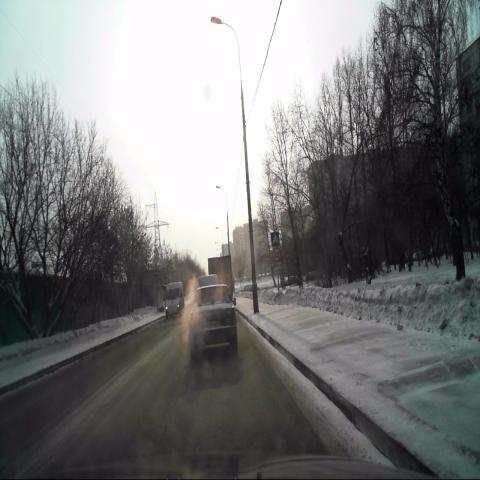3_24: (272, 248, 280, 261)
5_20: (271, 231, 279, 247)
